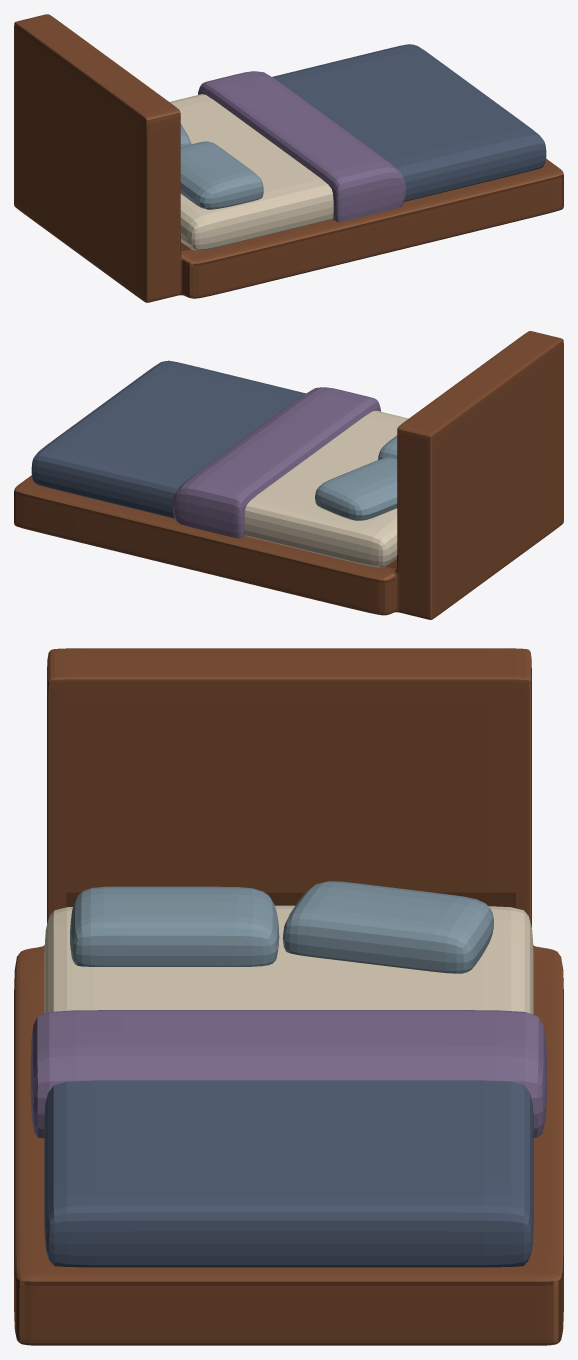
Rendered from bed.glb.
3 renders of one model, top to bottom at view 1: azimuth 30°, elevation 25°; view 2: azimuth 150°, elevation 25°; view 3: azimuth 270°, elevation 25°, orthographic. The views are drawn at different scales.
Visible parts, largest first — view 1: Cube, Cube.001, Cube.004, Cube.002; view 2: Cube, Cube.001, Cube.004, Cube.003; view 3: Cube, Cube.001, Cube.004, Cube.002, Cube.003.
Part boxes in pixels (bbox=[...]): Cube: bbox=[14, 14, 563, 302]; Cube.001: bbox=[170, 44, 546, 251]; Cube.004: bbox=[198, 71, 406, 222]; Cube.002: bbox=[180, 141, 263, 209]; Cube: bbox=[14, 331, 563, 619]; Cube.001: bbox=[31, 360, 408, 567]; Cube.004: bbox=[172, 387, 380, 538]; Cube.003: bbox=[315, 457, 397, 520]; Cube: bbox=[14, 648, 563, 1345]; Cube.001: bbox=[44, 905, 533, 1267]; Cube.004: bbox=[30, 1010, 546, 1138]; Cube.002: bbox=[70, 886, 279, 966]; Cube.003: bbox=[282, 881, 493, 973].
Bounding box in the file's own units: 3.9 × 1.69 × 2.49.
